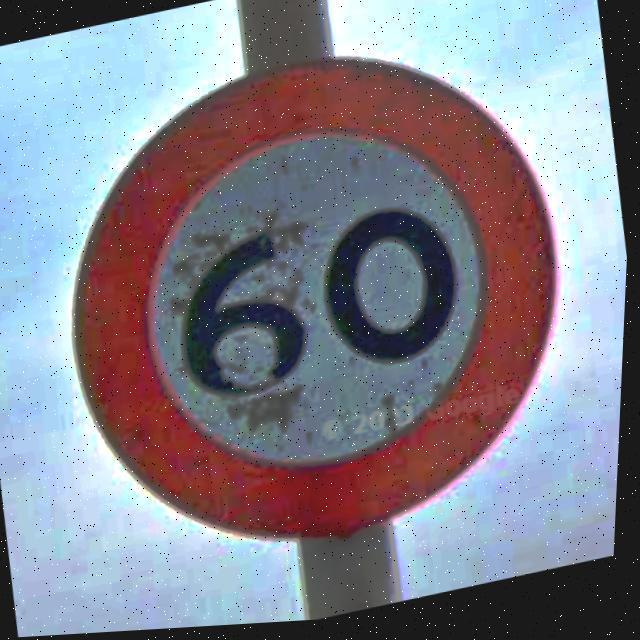max60: (29, 11, 605, 595)
